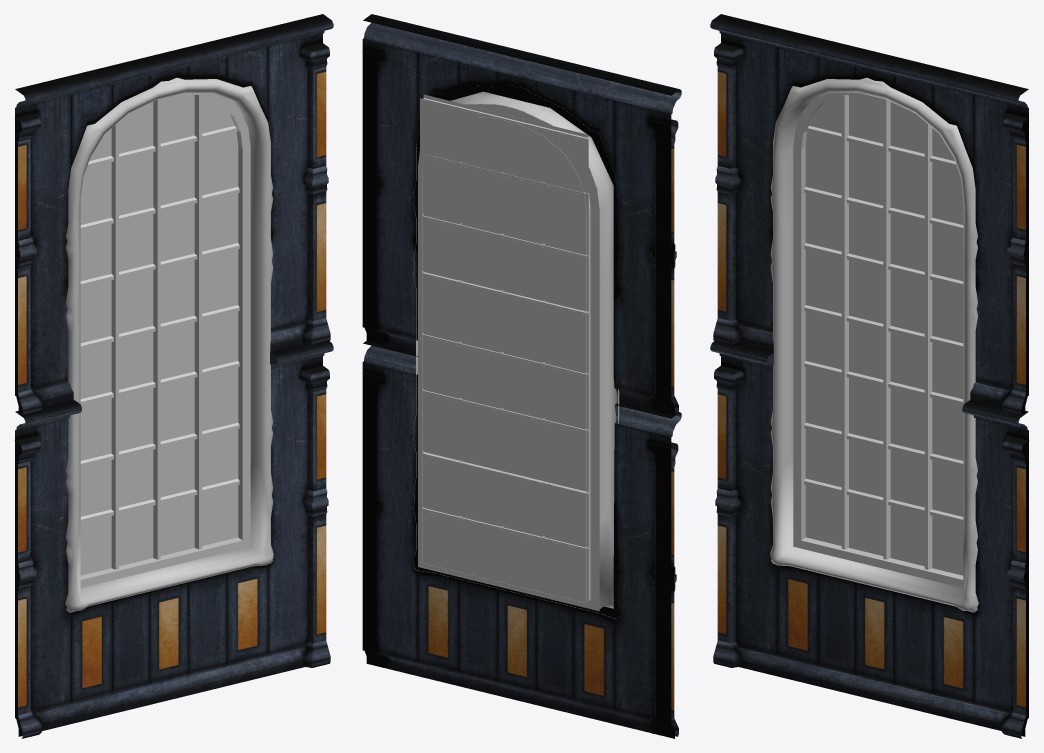
The model's file is window_dark_large_blue_01_blue.DAE.
3 views of the same model, side by side, from view 1: azimuth 30°, elevation 25°; view 2: azimuth 150°, elevation 25°; view 3: azimuth 330°, elevation 25° (orthographic).
Visible parts, largest first — view 1: default021, window02_large_glass_yellow007, Object006; view 2: default021, window02_large_glass_yellow007, Object006; view 3: default021, window02_large_glass_yellow007, Object006.
Boxes of the visible parts, x1=… form: default021: x1=14, y1=14, x2=333, y2=738; window02_large_glass_yellow007: x1=80, y1=95, x2=238, y2=575; Object006: x1=65, y1=77, x2=273, y2=612; default021: x1=362, y1=14, x2=681, y2=738; window02_large_glass_yellow007: x1=420, y1=98, x2=588, y2=606; Object006: x1=413, y1=85, x2=620, y2=619; default021: x1=710, y1=14, x2=1029, y2=738; window02_large_glass_yellow007: x1=805, y1=95, x2=963, y2=575; Object006: x1=770, y1=77, x2=978, y2=612.
Size of the model in its own units: 4 by 8 by 0.5209.
